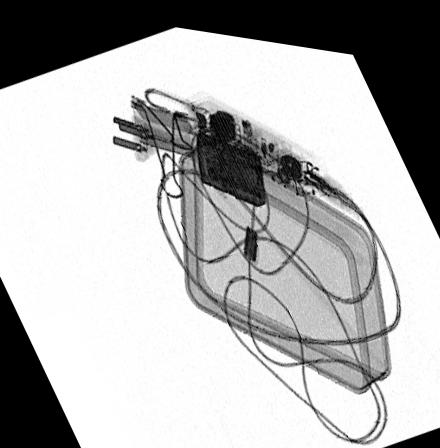Lighter: (195, 124, 266, 201)
